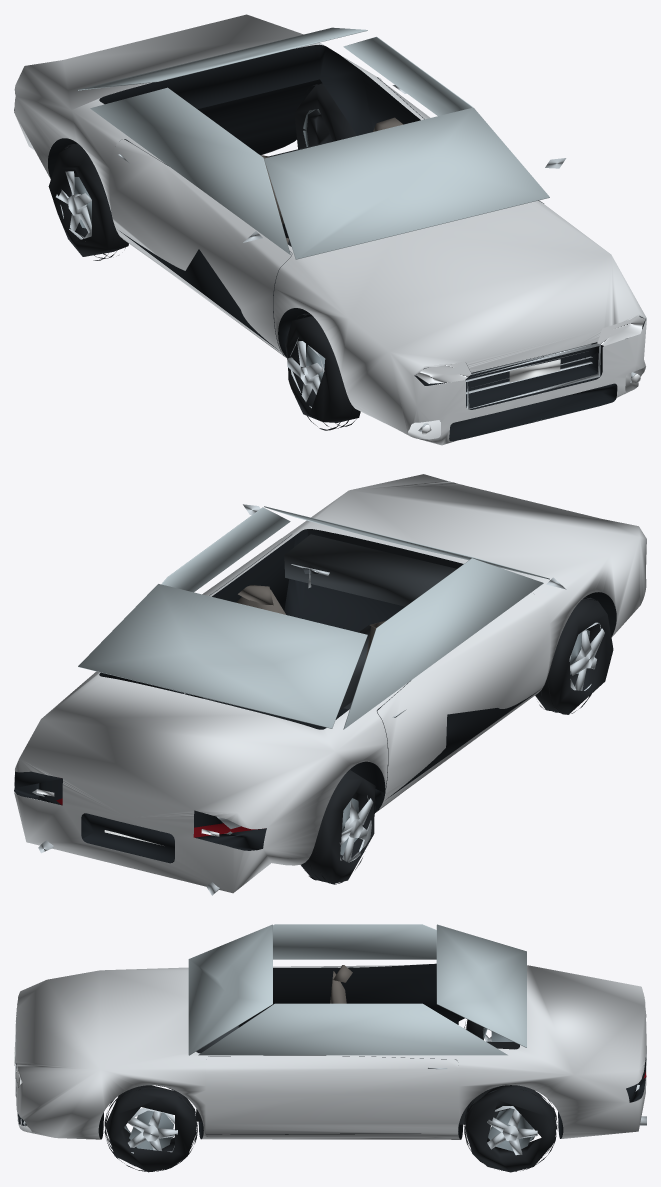
Rendered from sports-lod2.glb.
The picture shows the model from 3 angles, top to bottom: view 1: azimuth 30°, elevation 25°; view 2: azimuth 150°, elevation 25°; view 3: azimuth 270°, elevation 25°; orthographic projection. The views are drawn at different scales.
Visible parts, largest first — view 1: body_paint, body_glass.001, body_black.001, wheelpart_rubber.001 (×3), body_chrome, body_clearlens, wheelpart_chrome (×2), body_white, body_steel.001; view 2: body_paint, body_glass.001, body_black.001, wheelpart_rubber.001 (×2), body_interior, wheelpart_chrome (×2), body_chrome, body_seat; view 3: body_paint, body_glass.001, wheelpart_rubber.001 (×2), body_black.001, wheelpart_chrome (×2), body_steel.001, body_rubber.001, body_interior, body_chrome, body_seat.
Boxes of the visible parts, x1,y1,x2,y2 form: body_paint: [14, 14, 646, 445]; body_glass.001: [78, 27, 549, 259]; body_black.001: [14, 44, 645, 441]; wheelpart_rubber.001 (×3): [48, 83, 360, 422]; body_chrome: [68, 85, 635, 431]; body_clearlens: [415, 316, 645, 435]; wheelpart_chrome (×2): [56, 171, 324, 408]; body_white: [509, 359, 560, 382]; body_steel.001: [71, 176, 325, 382]; body_paint: [14, 474, 646, 893]; body_glass.001: [78, 506, 549, 729]; body_black.001: [14, 529, 616, 863]; wheelpart_rubber.001 (×2): [300, 598, 613, 883]; body_interior: [202, 534, 456, 710]; wheelpart_chrome (×2): [339, 622, 604, 862]; body_chrome: [32, 504, 594, 895]; body_seat: [236, 585, 385, 660]; body_paint: [15, 963, 646, 1139]; body_glass.001: [188, 924, 526, 1055]; wheelpart_rubber.001 (×2): [105, 1085, 556, 1172]; body_black.001: [16, 963, 645, 1139]; wheelpart_chrome (×2): [127, 1106, 537, 1155]; body_steel.001: [129, 1031, 533, 1151]; body_rubber.001: [104, 1020, 557, 1171]; body_interior: [196, 1025, 519, 1124]; body_chrome: [15, 1035, 646, 1141]; body_seat: [330, 965, 352, 1003].
Size of the model in its own units: 2.04 by 1.23 by 4.45.
